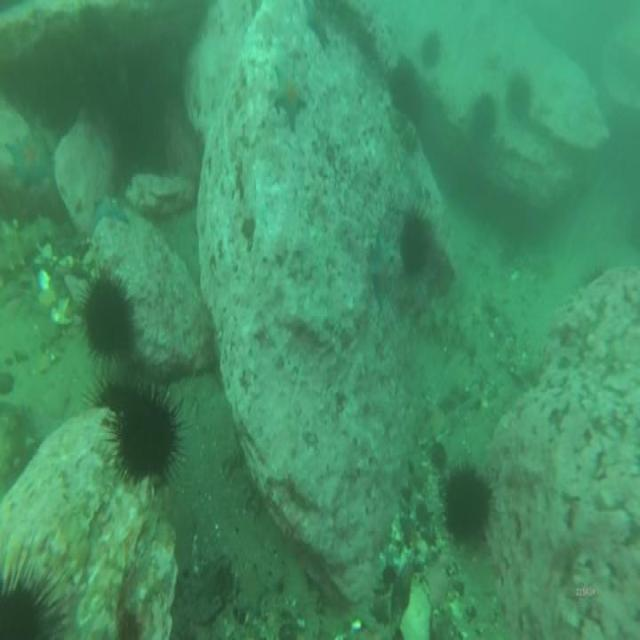echinus: (119, 389, 179, 482), (85, 280, 134, 352), (445, 468, 491, 540), (2, 573, 49, 640), (388, 62, 422, 120), (402, 212, 428, 272), (472, 90, 495, 141), (508, 73, 528, 119), (422, 35, 441, 63)
scallop: (398, 570, 432, 640)
starfish: (7, 136, 54, 183), (270, 66, 308, 120), (372, 248, 396, 307), (238, 564, 262, 618), (304, 0, 329, 47), (95, 190, 127, 224)
